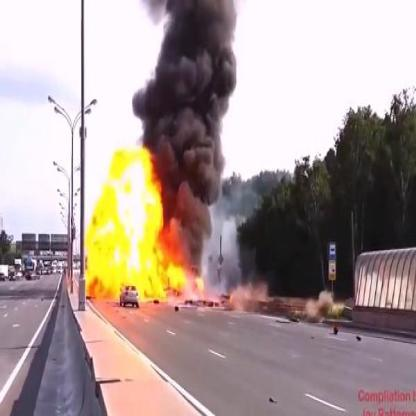fire: (86, 141, 203, 305)
